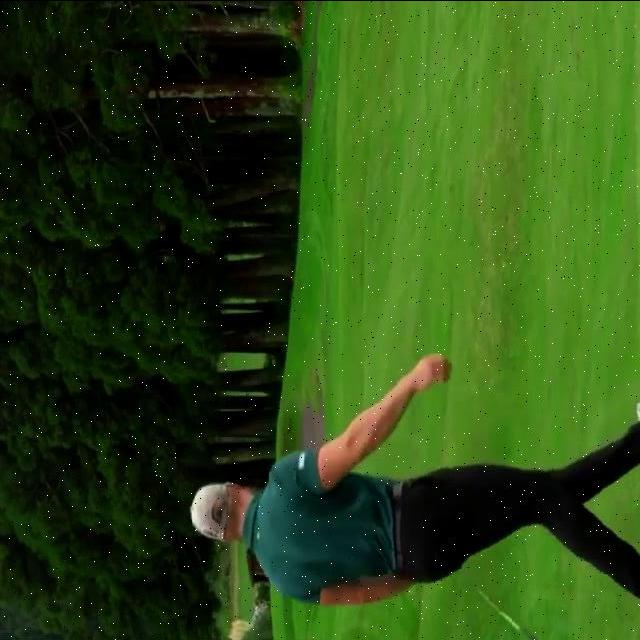golf club-handle: (462, 568, 536, 640)
